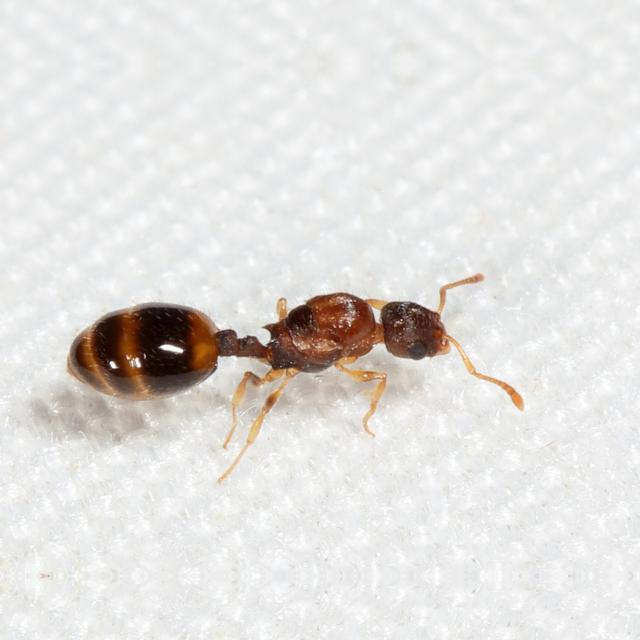Temnothorax: (37, 229, 511, 453)
